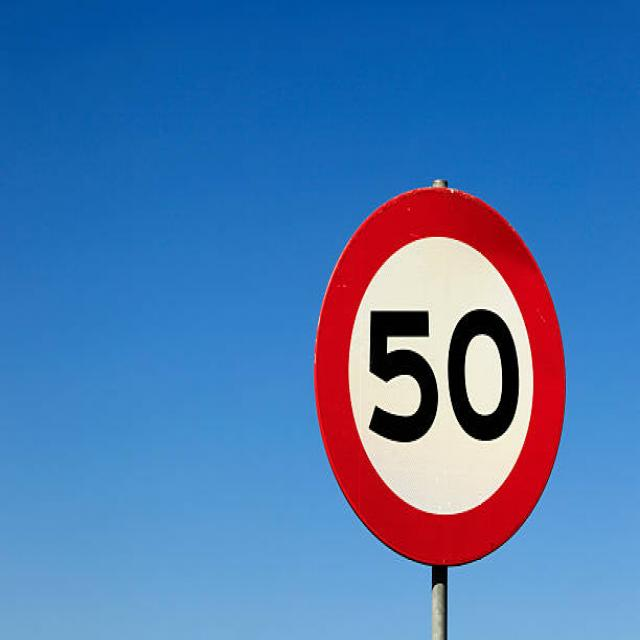speed_limit_50: (313, 180, 573, 566)
